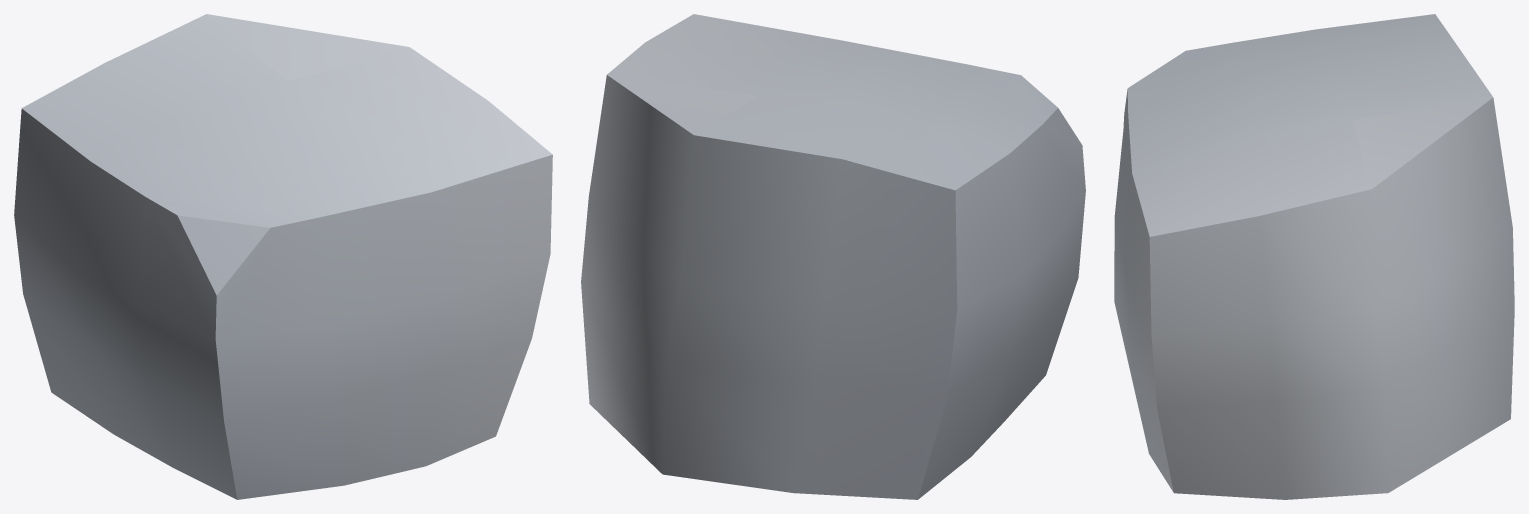
File: SM_Rock_Small_2.fbx
3 renders of one model, left to right at view 1: azimuth 30°, elevation 25°; view 2: azimuth 150°, elevation 25°; view 3: azimuth 270°, elevation 25°, orthographic. The views are drawn at different scales.
Parts seen in each view (by area): view 1: SM_Rock_Small_2; view 2: SM_Rock_Small_2; view 3: SM_Rock_Small_2.
Boxes of the visible parts, x1,y1,x2,y2 form: SM_Rock_Small_2: (14, 14, 552, 499); SM_Rock_Small_2: (581, 14, 1085, 499); SM_Rock_Small_2: (1114, 14, 1514, 499).
Size of the model in its own units: 51.45 by 42.89 by 45.87.
